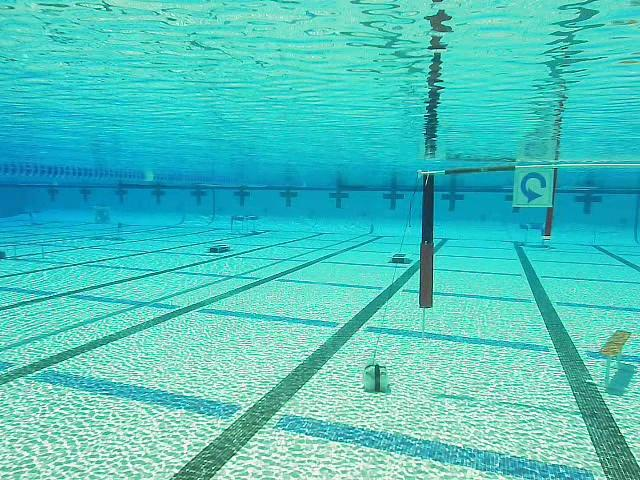dropper: (389, 251, 410, 266), (209, 242, 233, 253)
gate_blue: (512, 169, 555, 208)
gate_leg_l: (419, 170, 434, 308)
table: (230, 211, 261, 238)
torpedo: (91, 204, 111, 226)
